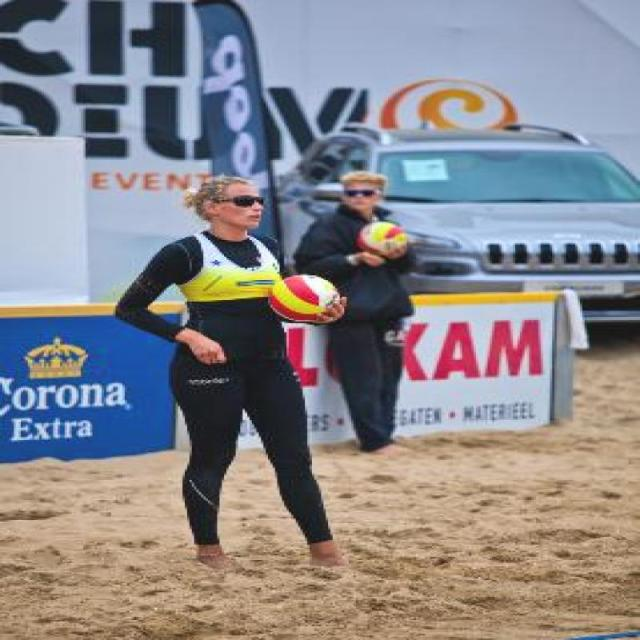volleyball: (268, 274, 342, 324), (358, 220, 409, 255)
